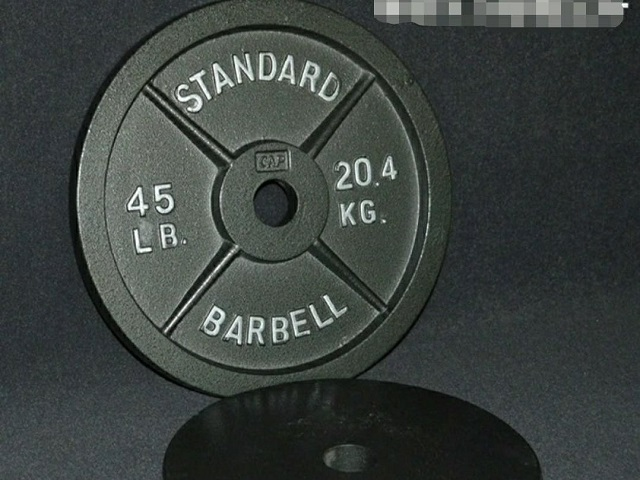weights: (66, 1, 451, 399)
